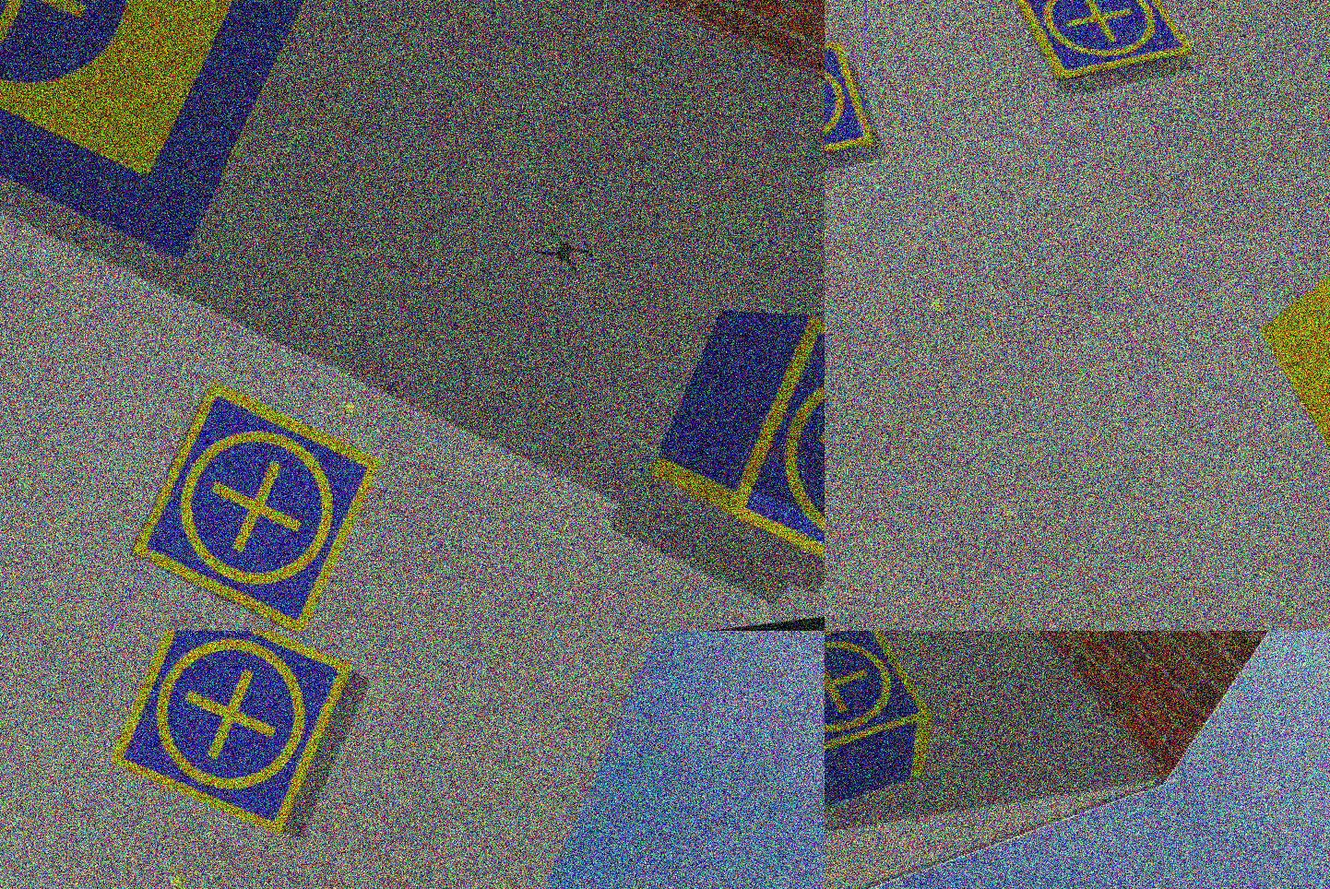large_base: (1, 1, 380, 306)
small_base: (113, 365, 405, 631), (93, 631, 369, 856), (702, 299, 825, 631), (1015, 1, 1197, 92), (825, 631, 938, 768), (825, 41, 879, 180)
